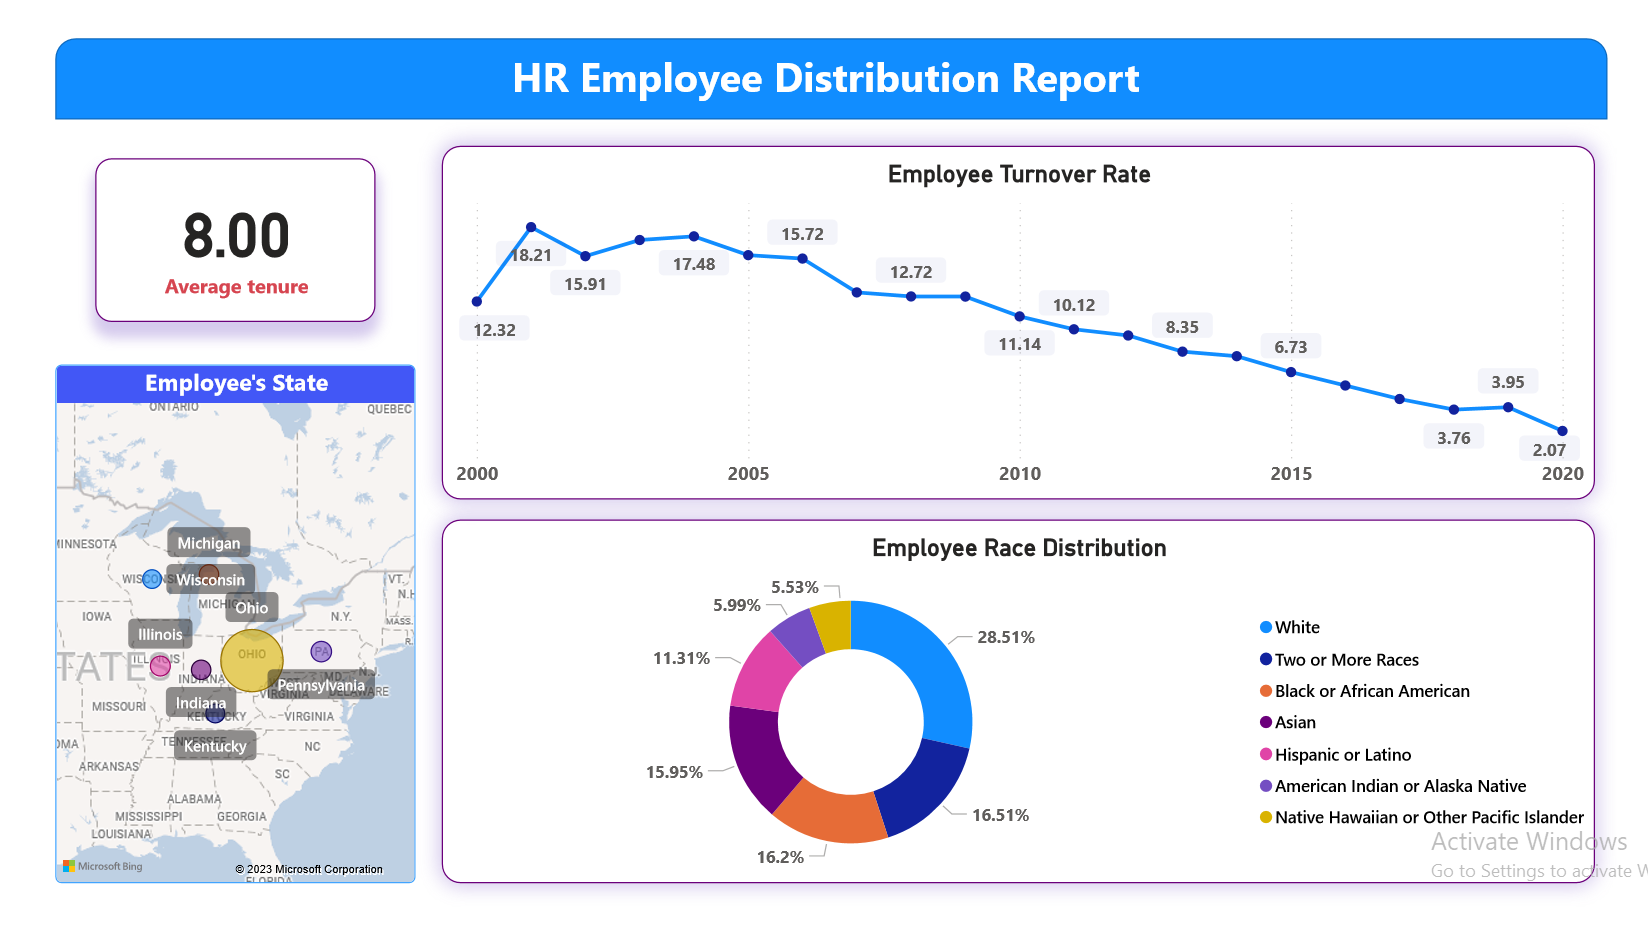

The page's visual inventory and layout, read from the dashboard file:
{"tool":"powerbi","page":{"name":"Page 2","canvas":[1280,720],"ordinal":1},"visuals":[{"type":"shape","box":[20.5,20.5,1241,65.1],"z":0},{"type":"textbox","box":[381.1,24.1,518.6,56.7],"z":1000},{"type":"donutChart","title":"Employee Race  Distribution","fields":{"Category":["Race counts.race"],"Y":["Sum(Race counts.count)"]},"box":[330.5,406.4,921.4,290.7],"z":2000},{"type":"lineChart","title":"Employee Turnover Rate","fields":{"Category":["Terminations year wise.hiring_year"],"Y":["Sum(Terminations year wise.Turnover Rate)"]},"box":[330.5,107.3,921.4,282.2],"z":3000},{"type":"card","title":"what","fields":{"Values":["Avg(Tenure department wise.avg_tenure)"]},"box":[53.1,117,224.3,131.5],"z":4000},{"type":"map","title":"Employee''s State","fields":{"Category":["Employees count state wise.location_state"],"Series":["Employees count state wise.count"],"Size":["Sum(Employees count state wise.count)"]},"box":[20.5,282.2,288.2,414.9],"z":5000}]}

Visuals, with their boxes in screenshot pixels (x1, y1, x2, y2), scaled from the page's 1280x720 canvas onto the 1648x927 screenshot:
shape: bbox=[26, 26, 1624, 110]
textbox: bbox=[491, 31, 1158, 104]
"Employee Race  Distribution" donutChart: bbox=[426, 523, 1612, 898]
"Employee Turnover Rate" lineChart: bbox=[426, 138, 1612, 501]
"what" card: bbox=[68, 151, 357, 320]
"Employee''s State" map: bbox=[26, 363, 397, 898]
